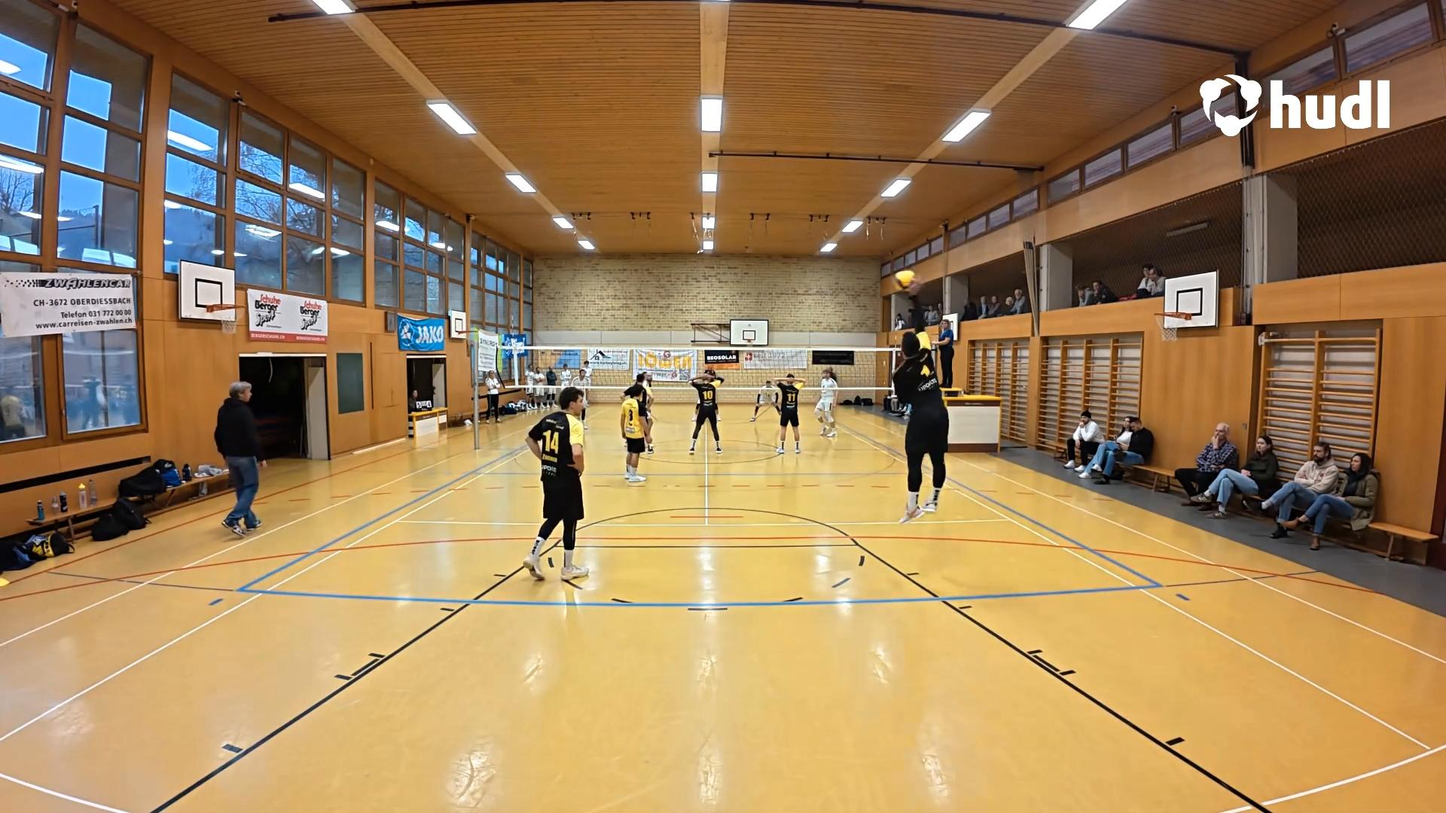Player: (524, 389, 590, 582), (687, 367, 724, 455), (619, 384, 651, 485), (773, 372, 803, 457), (622, 368, 655, 423), (813, 371, 840, 438), (756, 375, 785, 427), (574, 369, 591, 429)
Serve: (883, 300, 951, 524)
ball: (888, 273, 911, 292)
